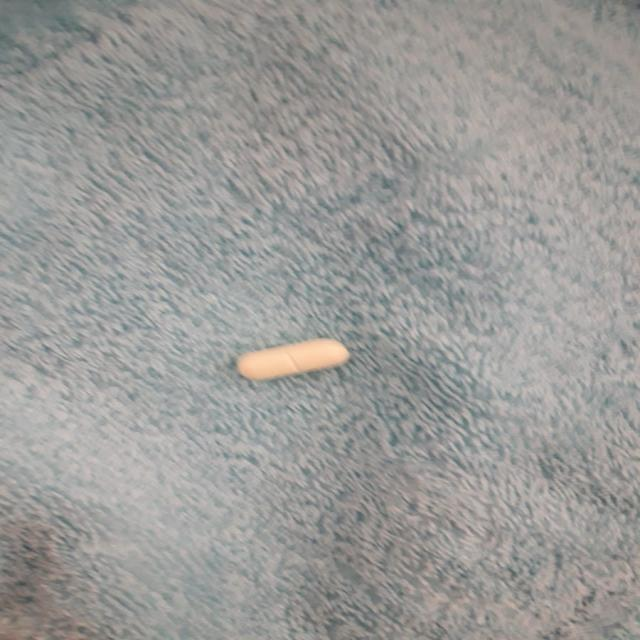pills: (218, 330, 364, 390)
